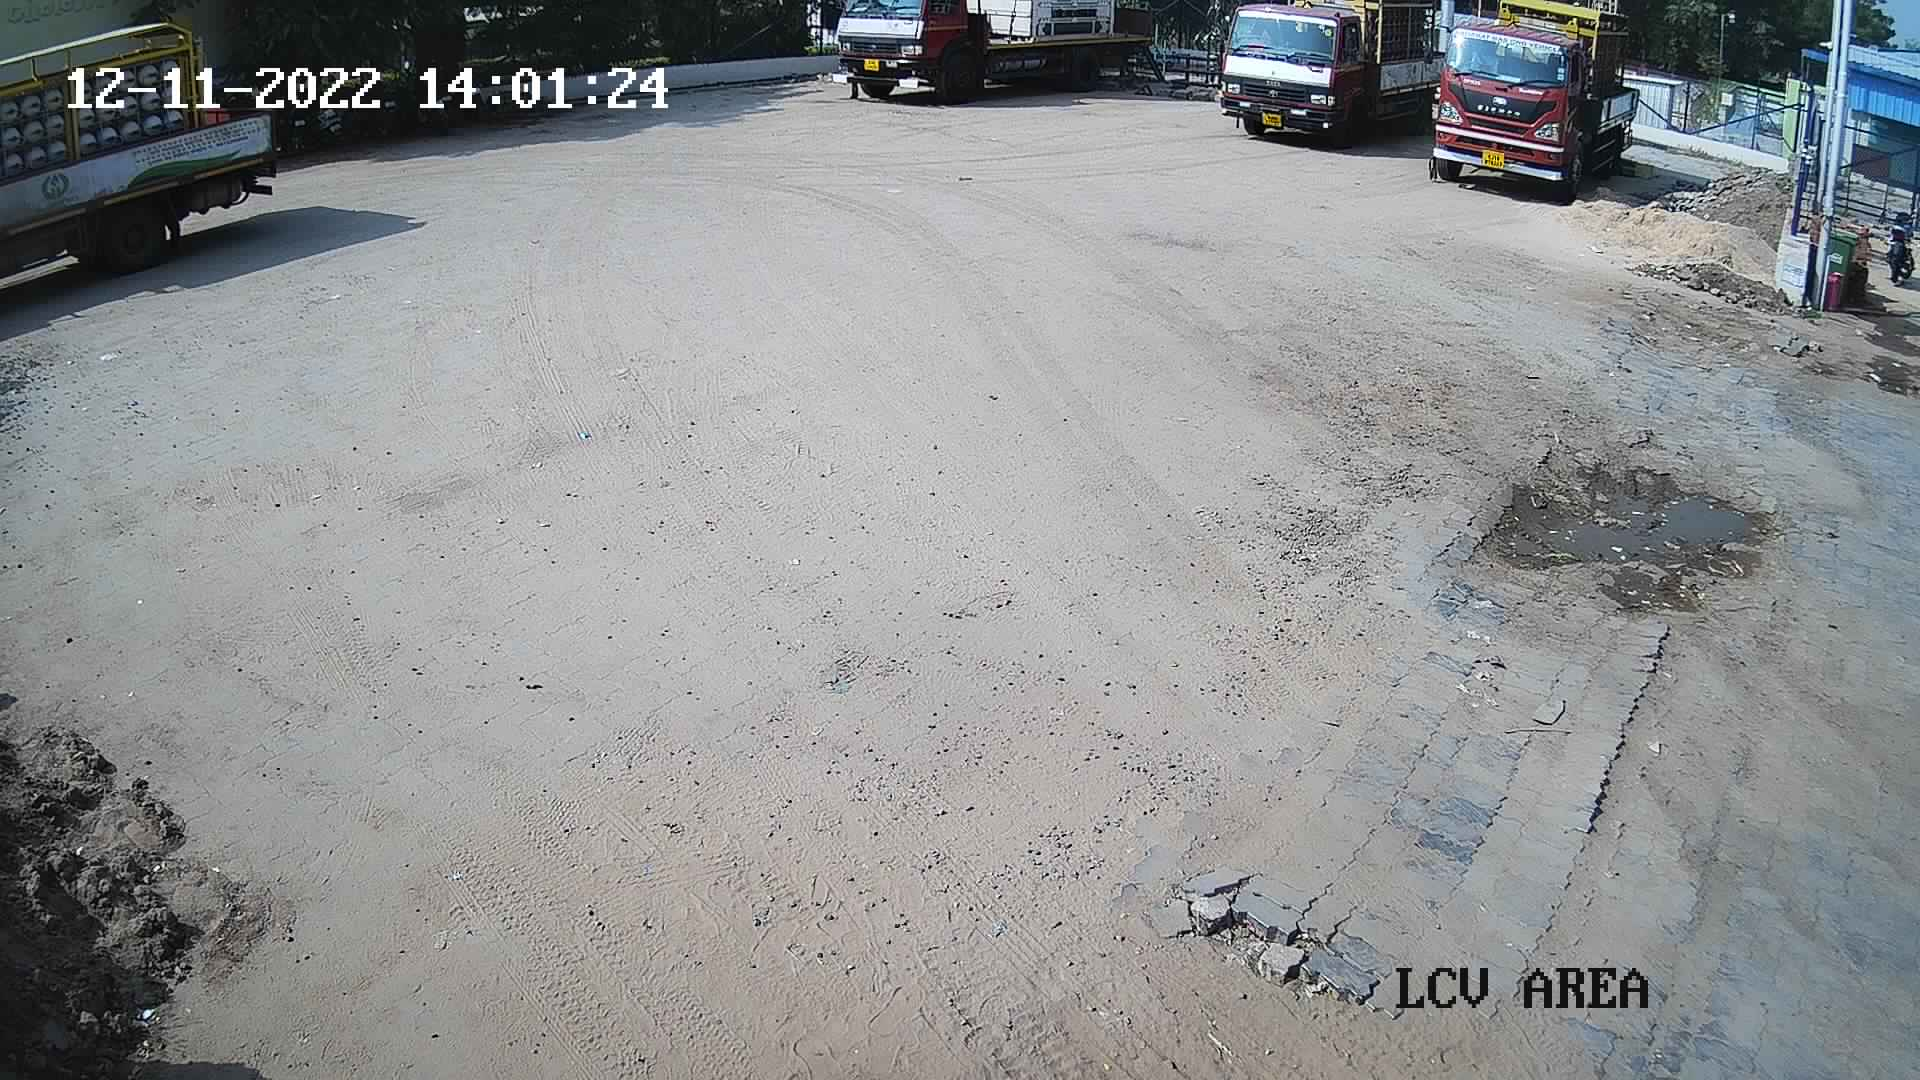Bike: (1873, 196, 1917, 290)
HMV: (4, 1, 309, 287), (1410, 0, 1646, 208), (1200, 0, 1476, 149), (808, 0, 1174, 107)
